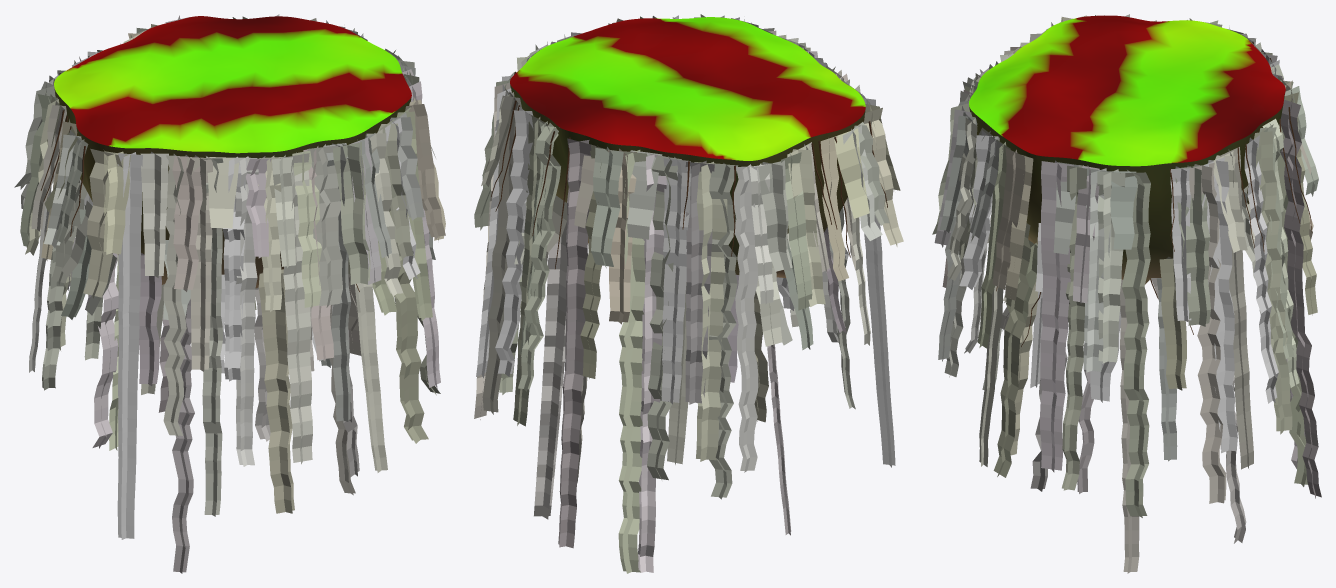
File: SM_H08_Floater04.fbx
3 renders of one model, left to right at view 1: azimuth 30°, elevation 25°; view 2: azimuth 150°, elevation 25°; view 3: azimuth 270°, elevation 25°, orthographic.
Visible parts, largest first — view 1: SM_H08_Floater04_Ivy, SM_H08_Floater04; view 2: SM_H08_Floater04_Ivy, SM_H08_Floater04; view 3: SM_H08_Floater04_Ivy, SM_H08_Floater04.
Part boxes in pixels (x1,y1,x2,y2): SM_H08_Floater04_Ivy: (14,14,445,573); SM_H08_Floater04: (54,16,411,288); SM_H08_Floater04_Ivy: (474,14,903,573); SM_H08_Floater04: (510,17,865,277); SM_H08_Floater04_Ivy: (932,14,1321,573); SM_H08_Floater04: (969,15,1285,284).
Size of the model in its own units: 28.24 by 32.84 by 25.75.
